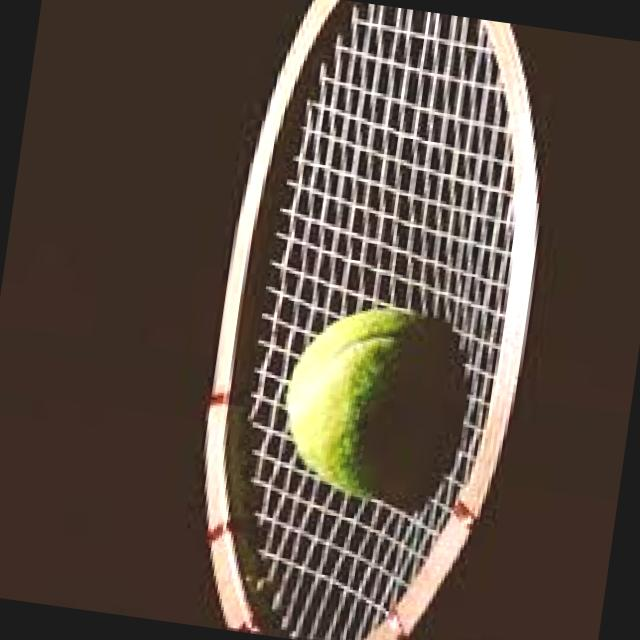tennis-ball: (276, 294, 472, 516)
